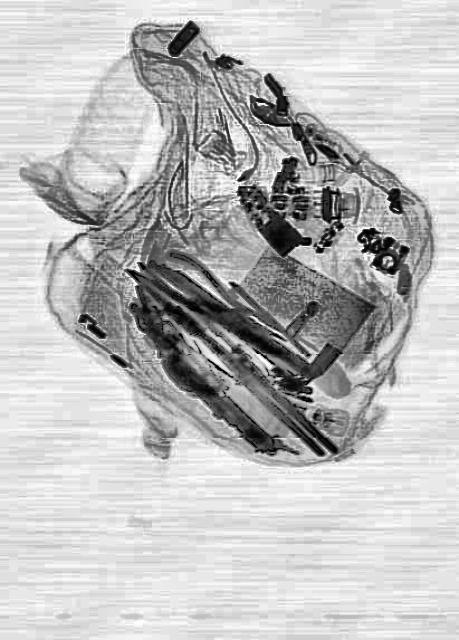Pliers: (152, 248, 292, 364)
